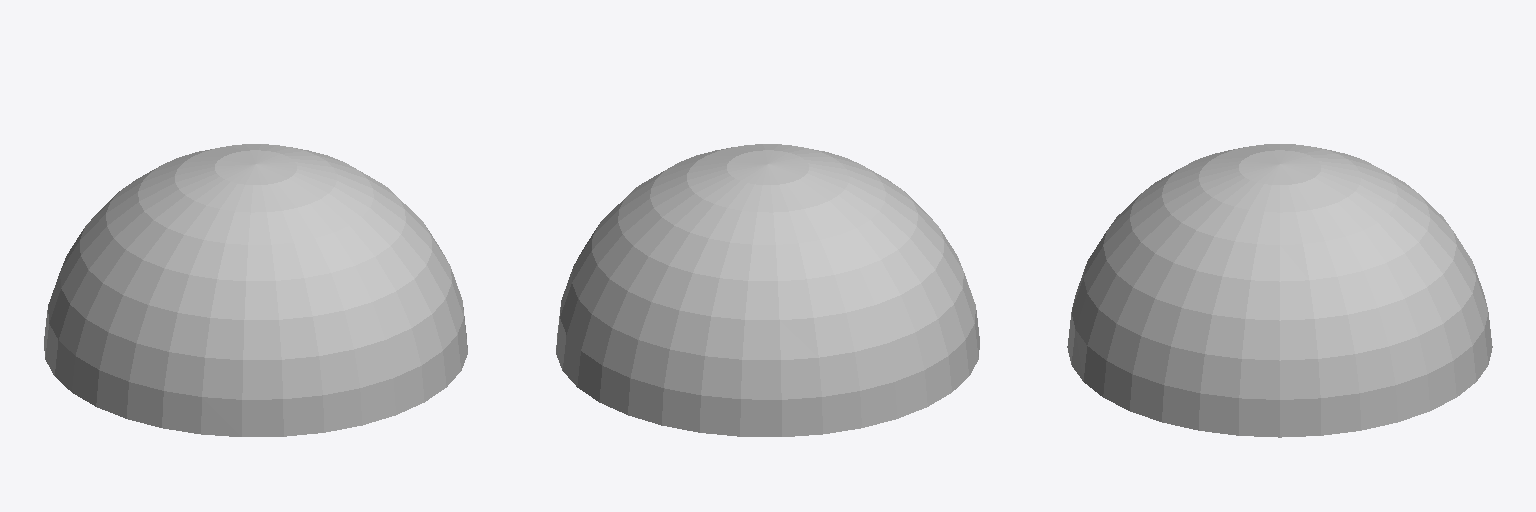
The model's file is semiEsfera.obj.
3 views of the same model, side by side, from view 1: azimuth 30°, elevation 25°; view 2: azimuth 150°, elevation 25°; view 3: azimuth 270°, elevation 25° (orthographic).
Parts seen in each view (by area): view 1: Esfera.001; view 2: Esfera.001; view 3: Esfera.001.
Part boxes in pixels (x1,y1,x2,y2): Esfera.001: (44, 144, 467, 436); Esfera.001: (556, 144, 979, 436); Esfera.001: (1067, 144, 1492, 437).
Bounding box in the file's own units: 0.021 × 0.01 × 0.021.